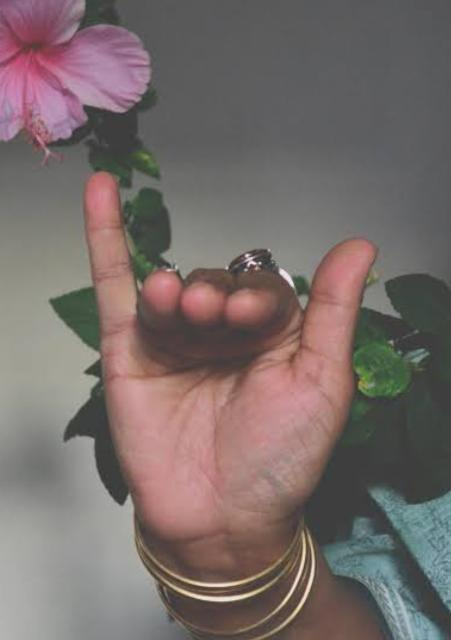mrighasheesh: (68, 172, 394, 640)
